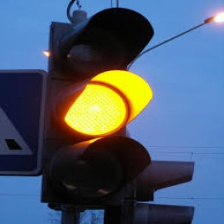semaforo: (38, 6, 155, 205)
